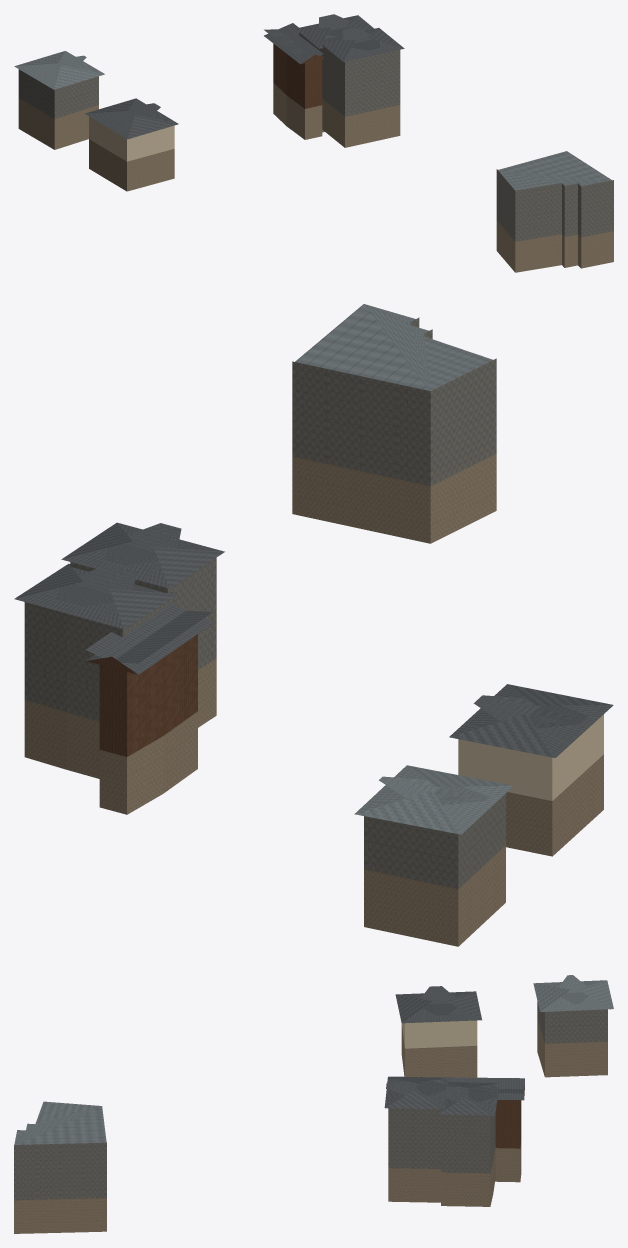
File: bld_c32_-38_450.gltf
3 views of the same model, one above another, from view 1: azimuth 30°, elevation 25°; view 2: azimuth 150°, elevation 25°; view 3: azimuth 270°, elevation 25° (orthographic). The views are drawn at different scales.
Visible parts, largest first — view 1: bld_c32_-38_450; view 2: bld_c32_-38_450; view 3: bld_c32_-38_450.
Part boxes in pixels (x1,y1,x2,y2): bld_c32_-38_450: [14, 14, 613, 272]; bld_c32_-38_450: [14, 304, 613, 946]; bld_c32_-38_450: [14, 975, 613, 1233].
Bounding box in the file's own units: 56.05 × 17 × 82.35.
Materials: 8 (8 with a texture image).
